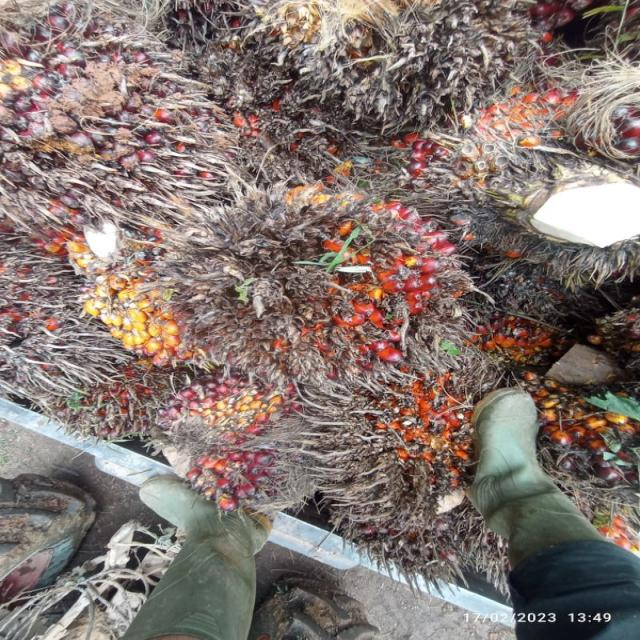fraksi 3: (177, 161, 488, 380)
fraksi 4: (308, 342, 477, 514)
